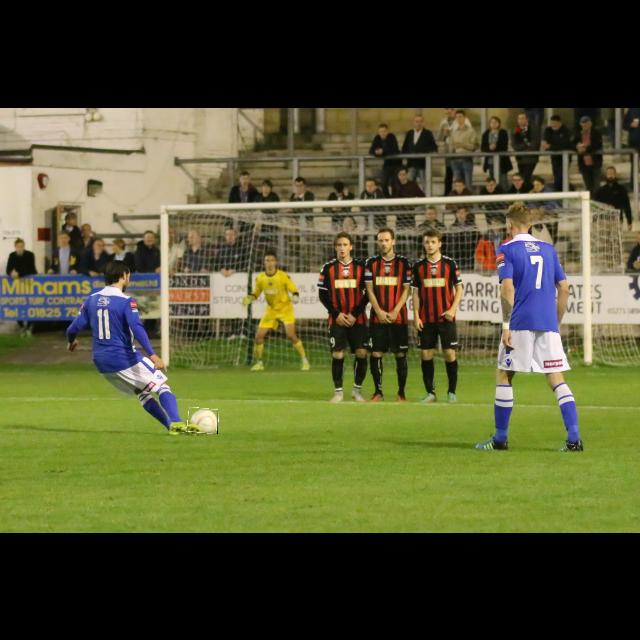Football: (188, 408, 218, 434)
